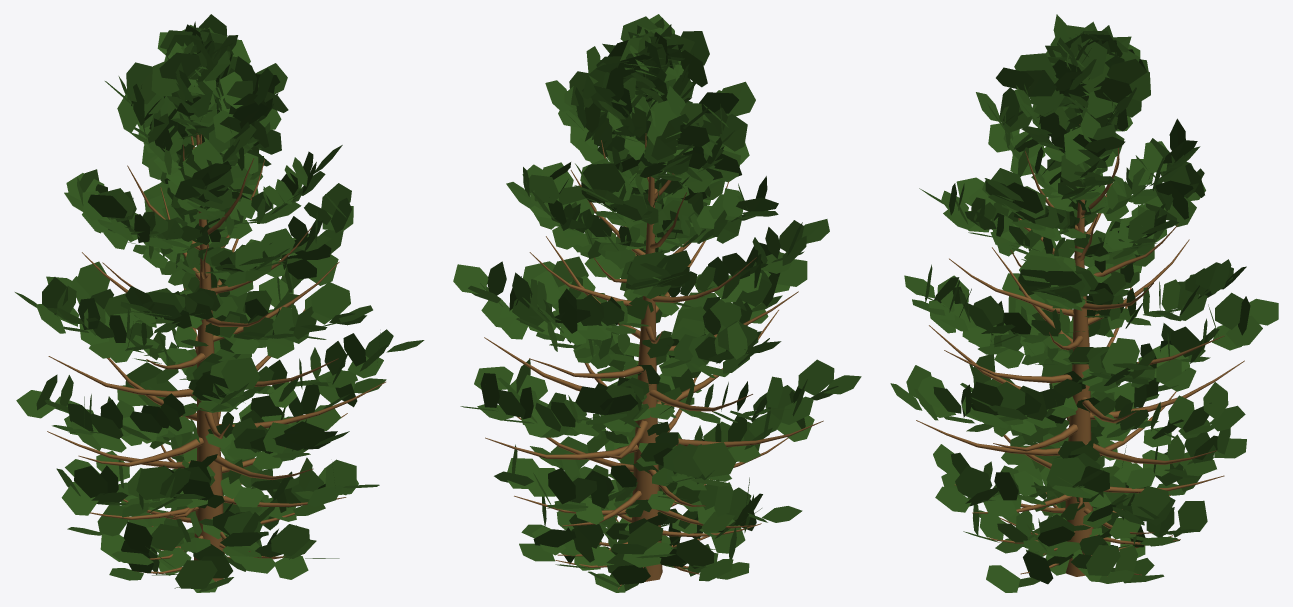
Rendered from Bush.fbx.
3 renders of one model, left to right at view 1: azimuth 30°, elevation 25°; view 2: azimuth 150°, elevation 25°; view 3: azimuth 270°, elevation 25°, orthographic. The views are drawn at different scales.
Visible parts, largest first — view 1: leaves, tree; view 2: leaves, tree; view 3: leaves, tree.
Boxes of the visible parts, x1=… form: leaves: x1=15, y1=14, x2=424, y2=592; tree: x1=47, y1=133, x2=385, y2=581; leaves: x1=453, y1=14, x2=861, y2=592; tree: x1=484, y1=133, x2=823, y2=589; leaves: x1=890, y1=14, x2=1278, y2=592; tree: x1=916, y1=124, x2=1244, y2=576.
Size of the model in its own units: 0.5684 by 0.8401 by 0.5491.
